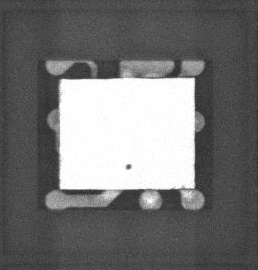DIE_INK: (118, 168, 127, 180)
